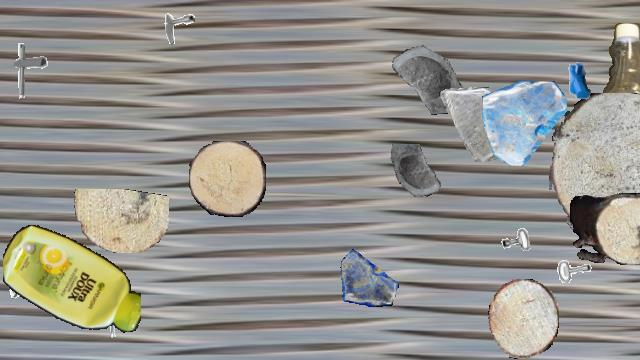glass: (482, 81, 566, 165), (382, 32, 464, 114), (438, 87, 512, 161), (387, 144, 449, 206), (340, 248, 398, 306)
metal: (487, 195, 547, 255), (0, 40, 56, 100), (550, 51, 606, 107), (3, 255, 49, 301), (554, 255, 600, 301), (95, 301, 139, 345), (153, 2, 195, 44)
plastic: (3, 221, 141, 337), (582, 23, 640, 221)
wood: (549, 93, 640, 245), (71, 189, 169, 253), (189, 141, 265, 217), (488, 279, 558, 359), (570, 193, 640, 265)
